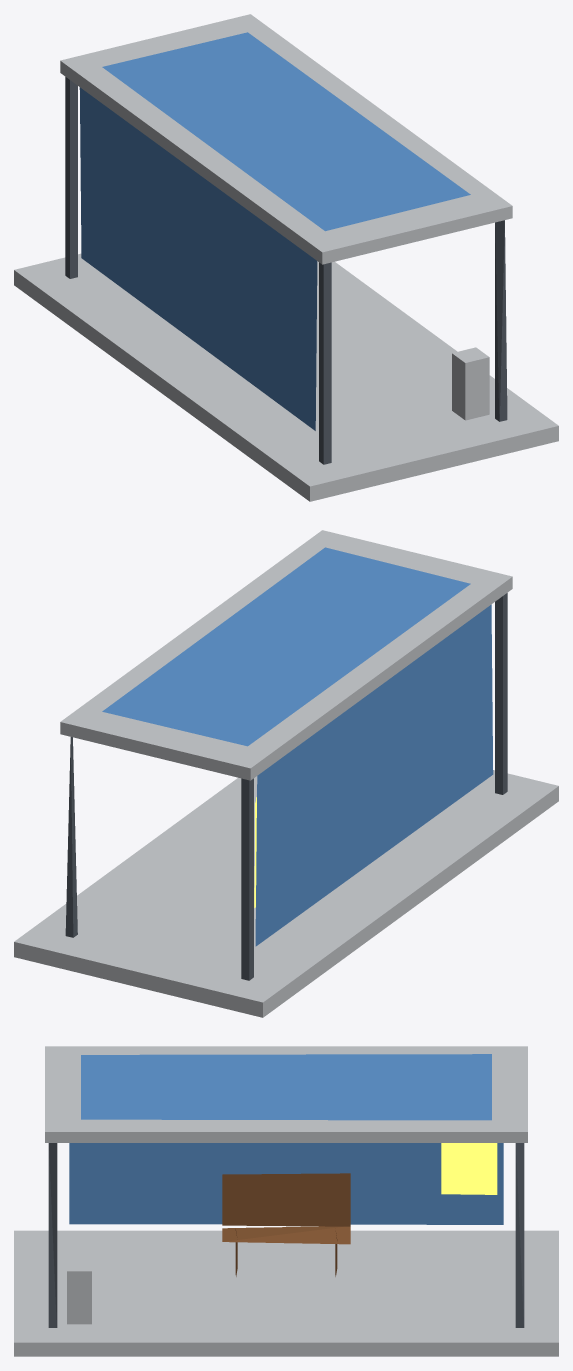
File: shelter_glass.glb
3 views of the same model, one above another, from view 1: azimuth 30°, elevation 25°; view 2: azimuth 150°, elevation 25°; view 3: azimuth 270°, elevation 25° (orthographic). The views are drawn at different scales.
Parts seen in each view (by area): view 1: shelter_glass; view 2: shelter_glass; view 3: shelter_glass.
Part boxes in pixels (box(x1,y1,x2,y2)): shelter_glass: box(14, 14, 558, 501); shelter_glass: box(14, 530, 558, 1017); shelter_glass: box(14, 1046, 558, 1356).
Bounding box in the file's own units: 0.1943 × 0.1732 × 0.4.
